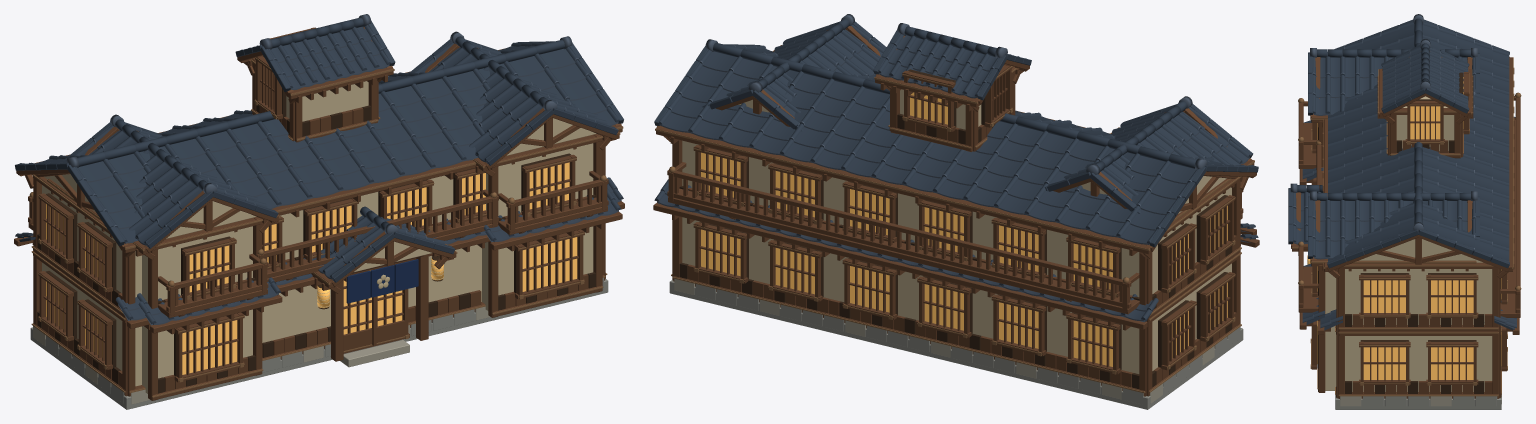
3 renders of one model, left to right at view 1: azimuth 30°, elevation 25°; view 2: azimuth 150°, elevation 25°; view 3: azimuth 270°, elevation 25°, orthographic. The views are drawn at different scales.
Parts seen in each view (by area): view 1: compact_skyscraper_2_geometry; view 2: compact_skyscraper_2_geometry; view 3: compact_skyscraper_2_geometry.
Part boxes in pixels (x1=…): compact_skyscraper_2_geometry: x1=14, y1=14, x2=624, y2=409; compact_skyscraper_2_geometry: x1=653, y1=14, x2=1259, y2=409; compact_skyscraper_2_geometry: x1=1288, y1=14, x2=1521, y2=409.
Size of the model in its own units: 2.2 by 1.19 by 1.02.
